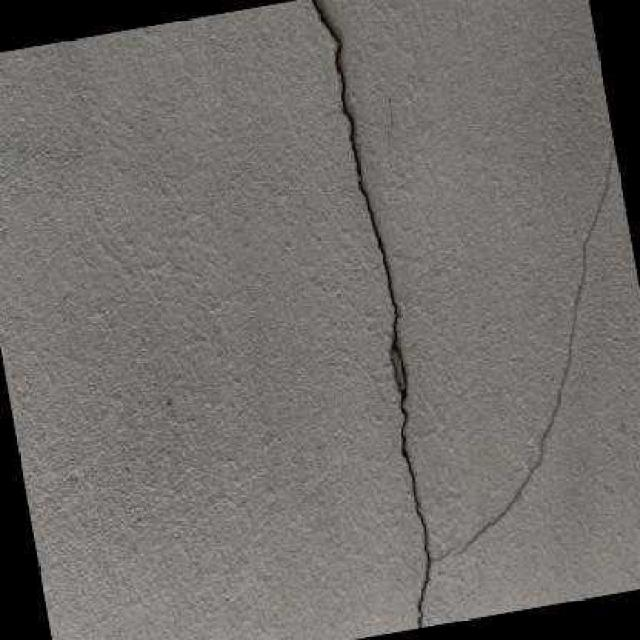D00: (312, 0, 431, 627)
